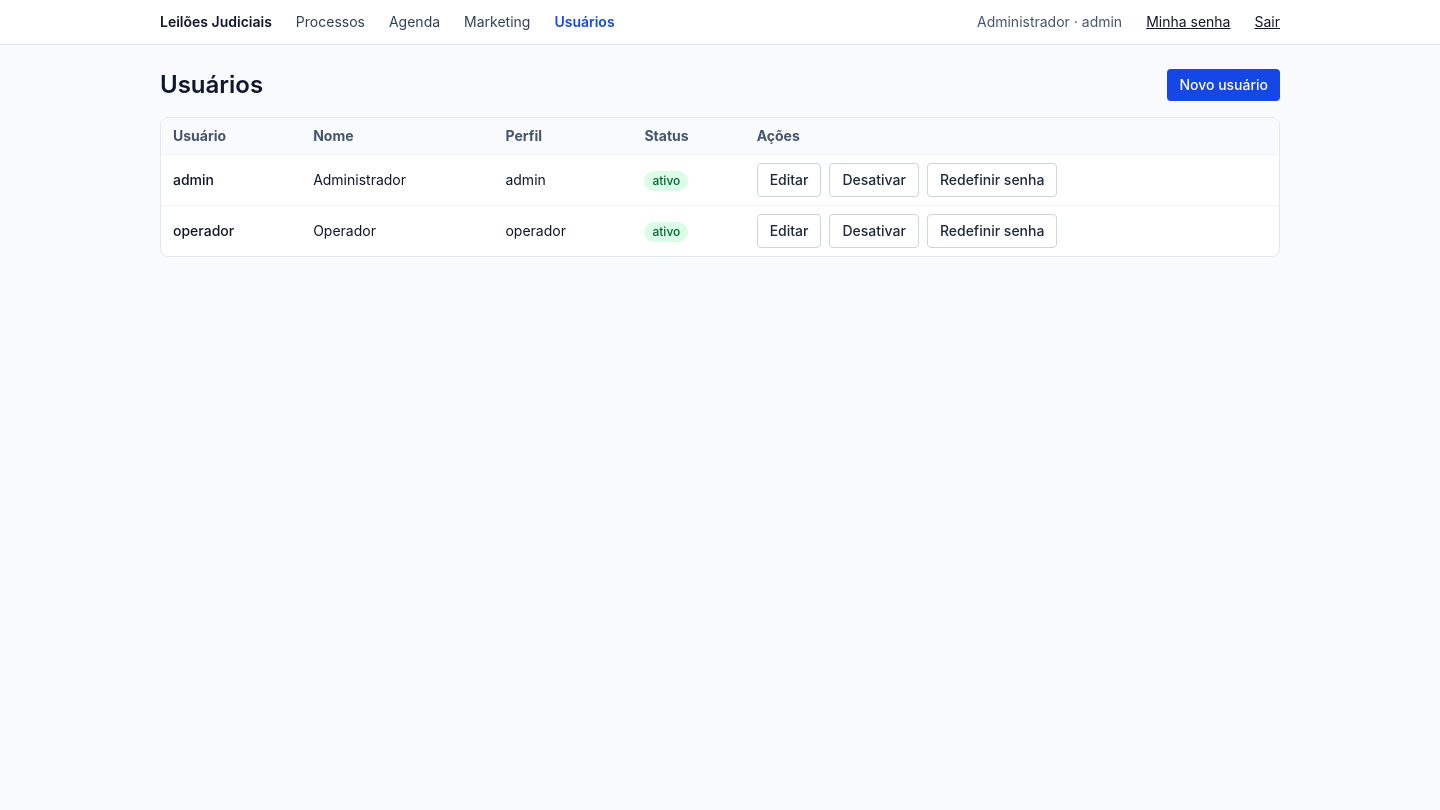
Scenario: UsuariosPage › username duplicado mostra 409
The image size is (1440, 810).
Click the button "Novo usuário" at point(1224, 85), box x1=1167 y1=69 x2=1280 y2=101
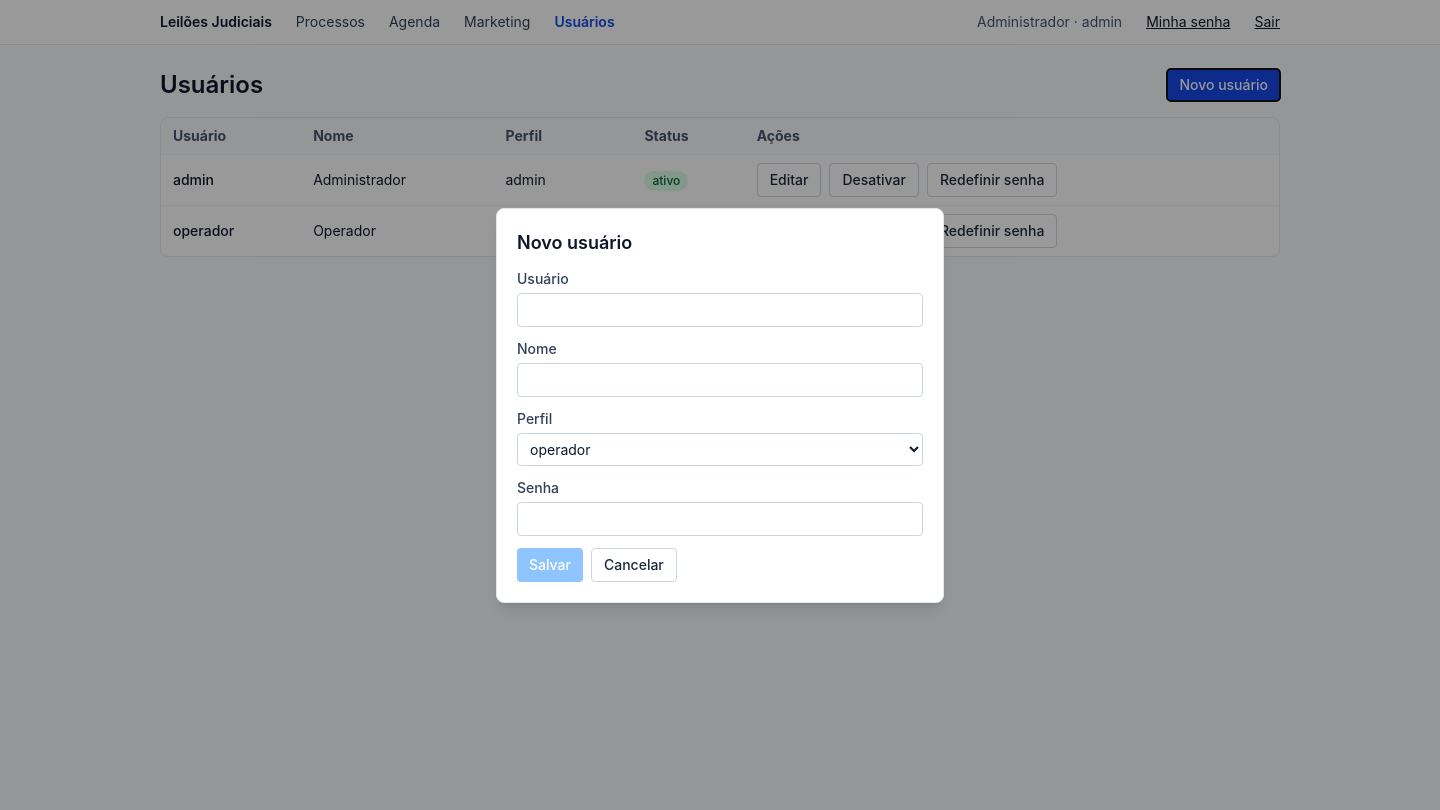
Type "operador" into the field labelled "Usuário" at point(720, 310), box x1=517 y1=292 x2=923 y2=326
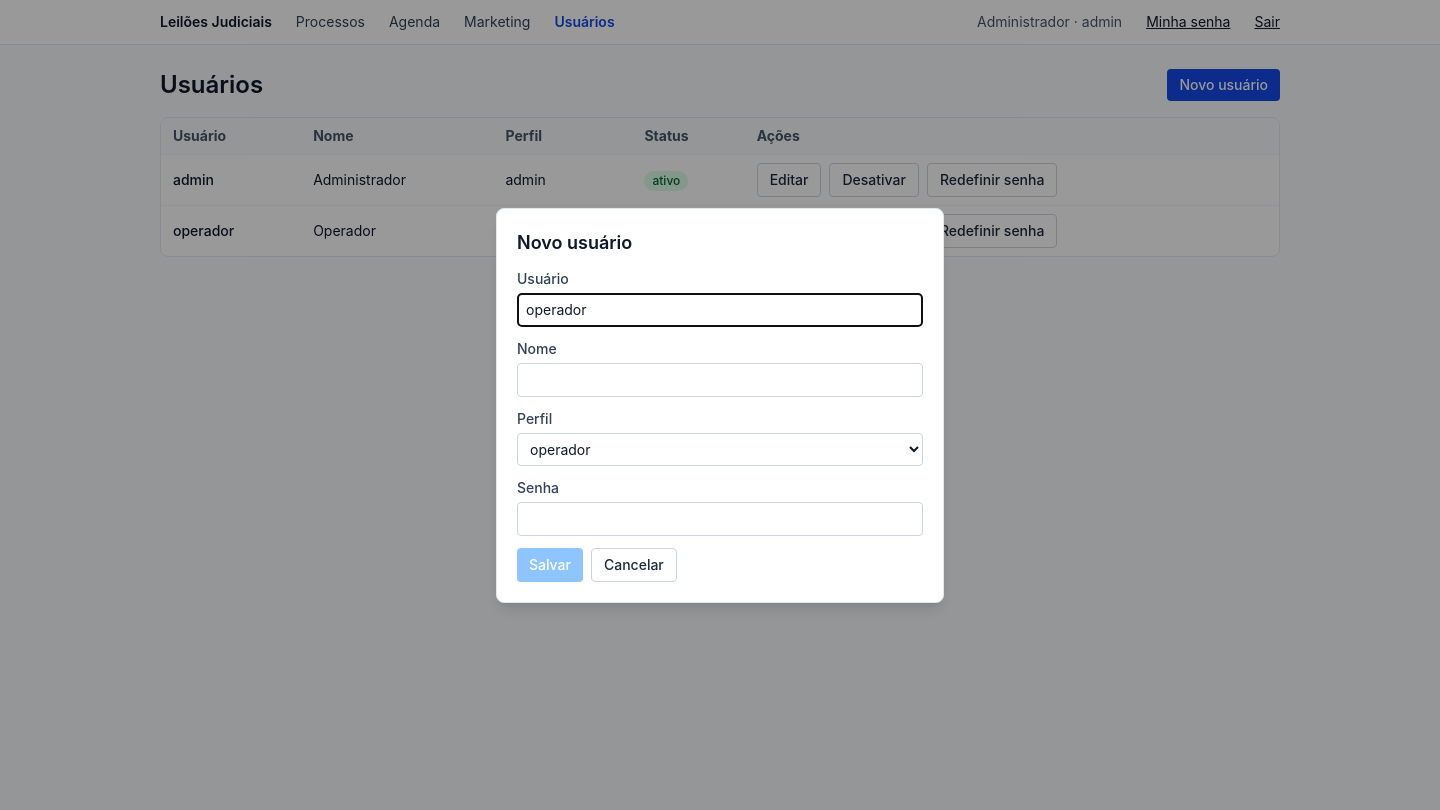
Type "Outro" into the field labelled "Nome" at point(720, 380), box x1=517 y1=362 x2=923 y2=396
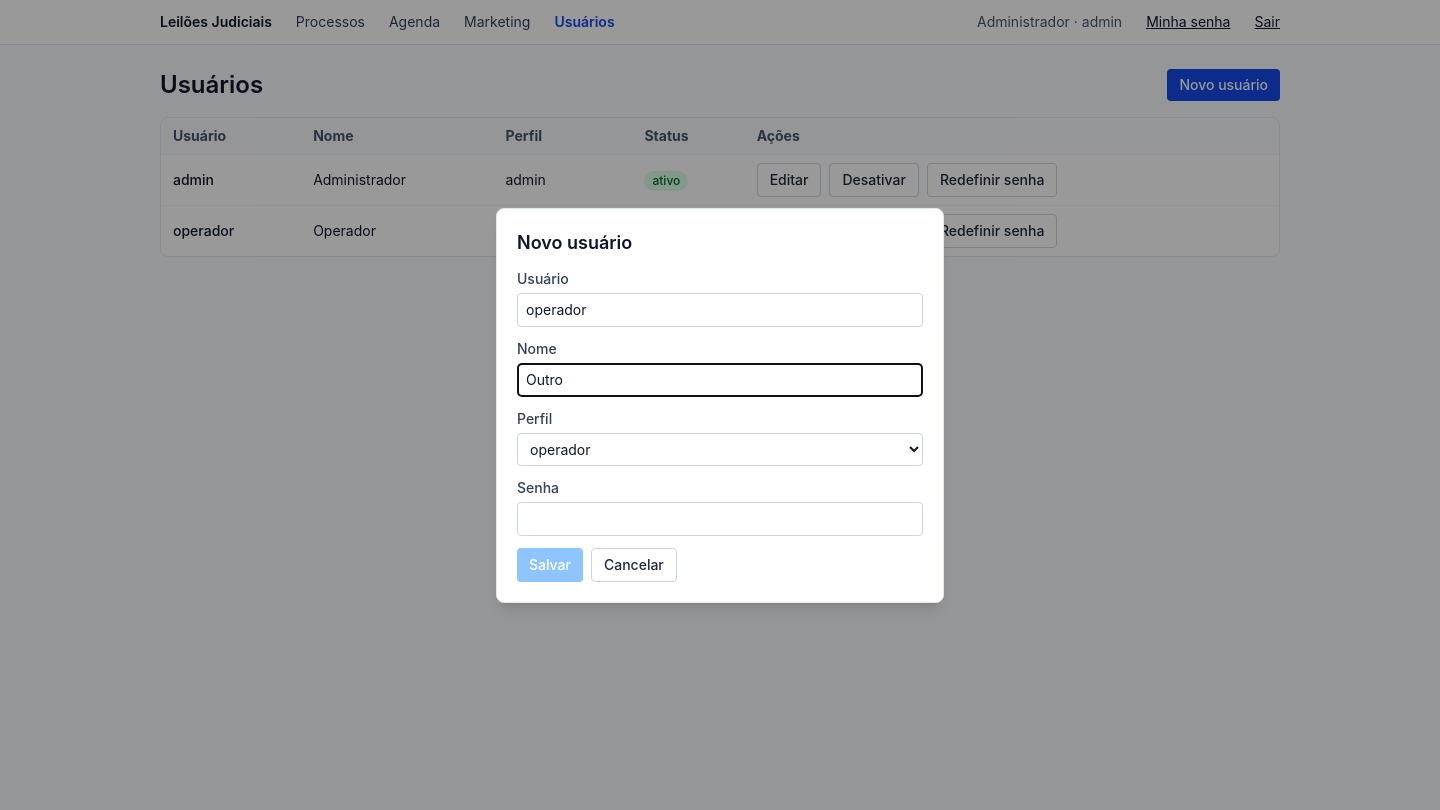
Type "senhaForte1" into the password field labelled "Senha" at point(720, 518), box x1=517 y1=502 x2=923 y2=536
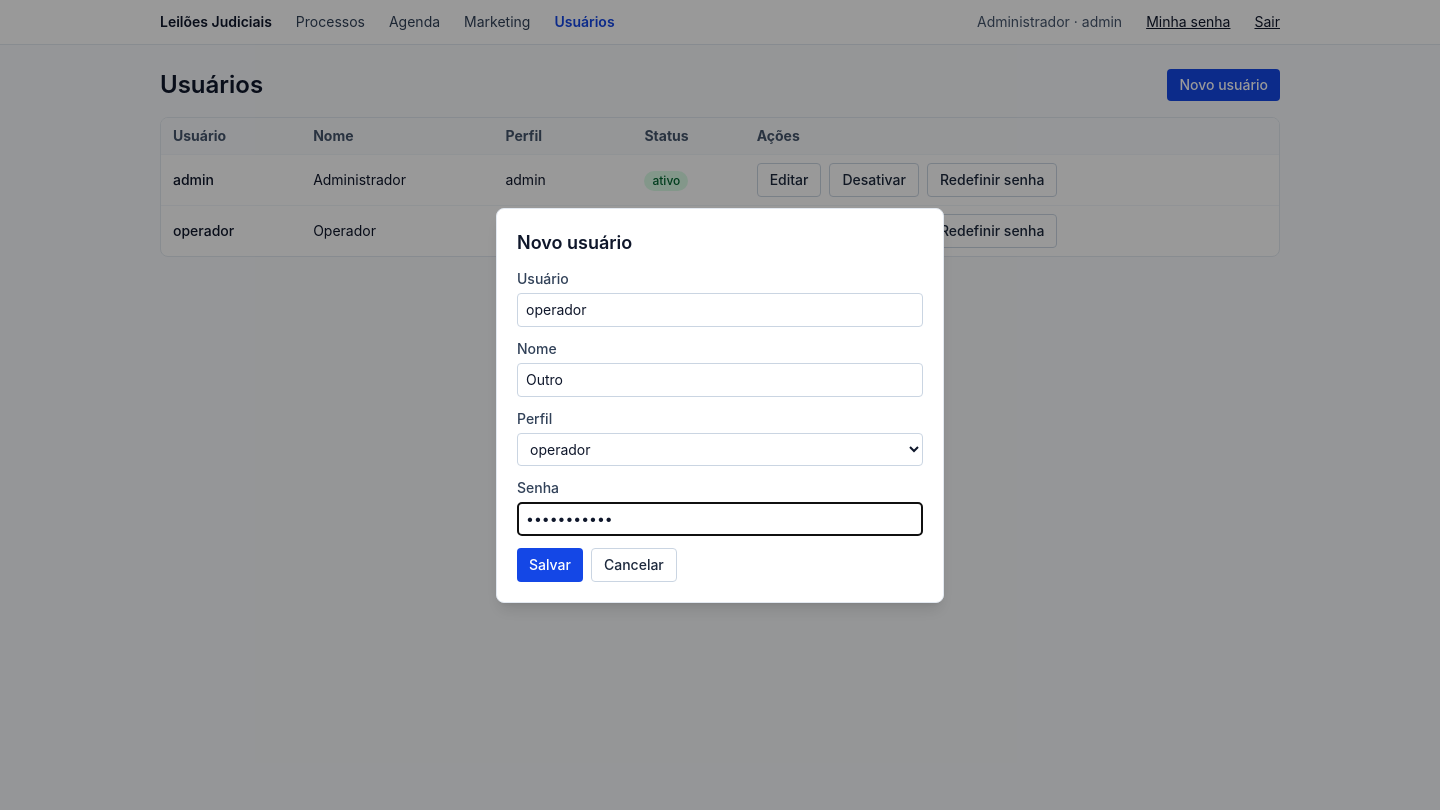
Click the button "Salvar" at point(550, 564), box x1=517 y1=548 x2=583 y2=582
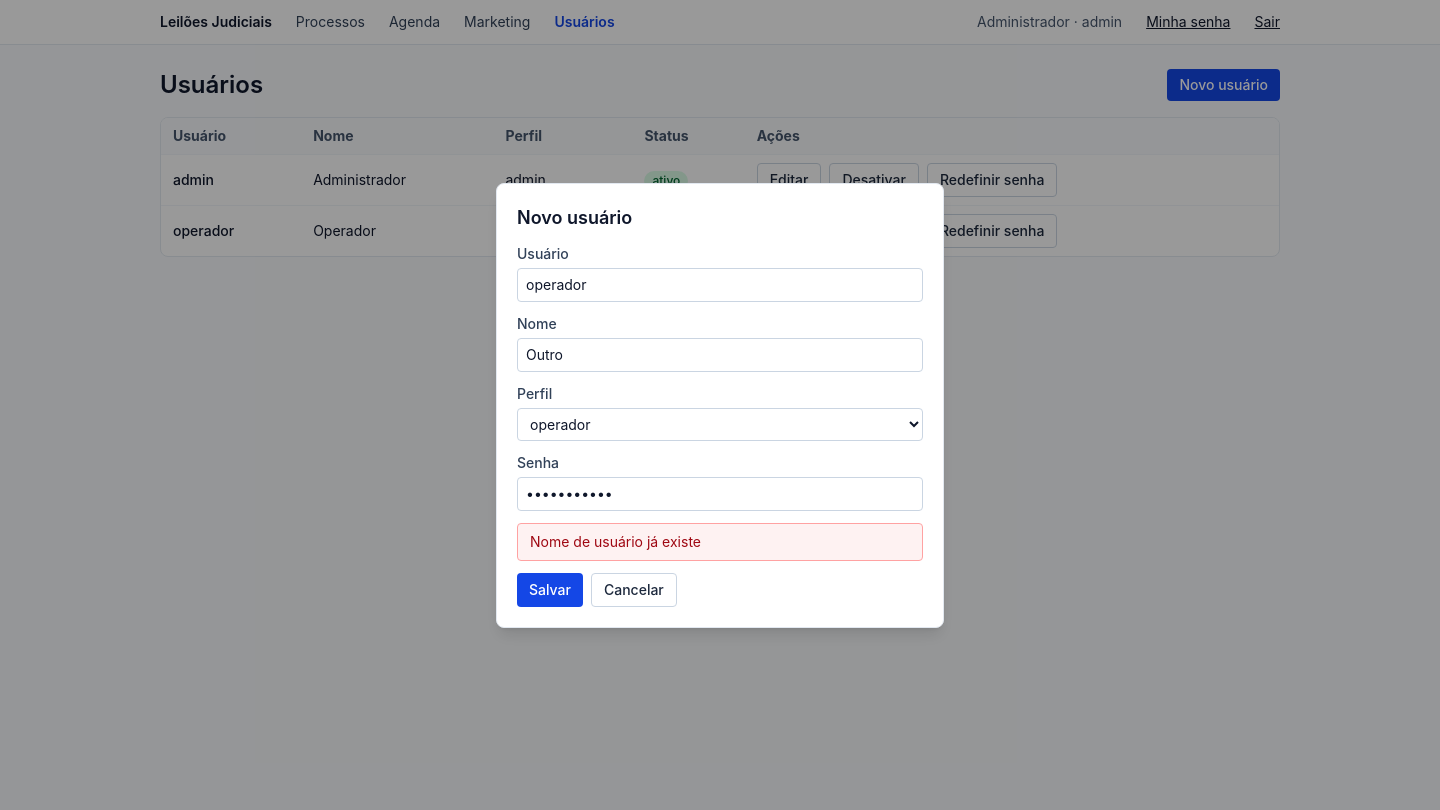
Expected: the message reads "Nome de usuário já existe", x1=530 y1=532 x2=701 y2=550
